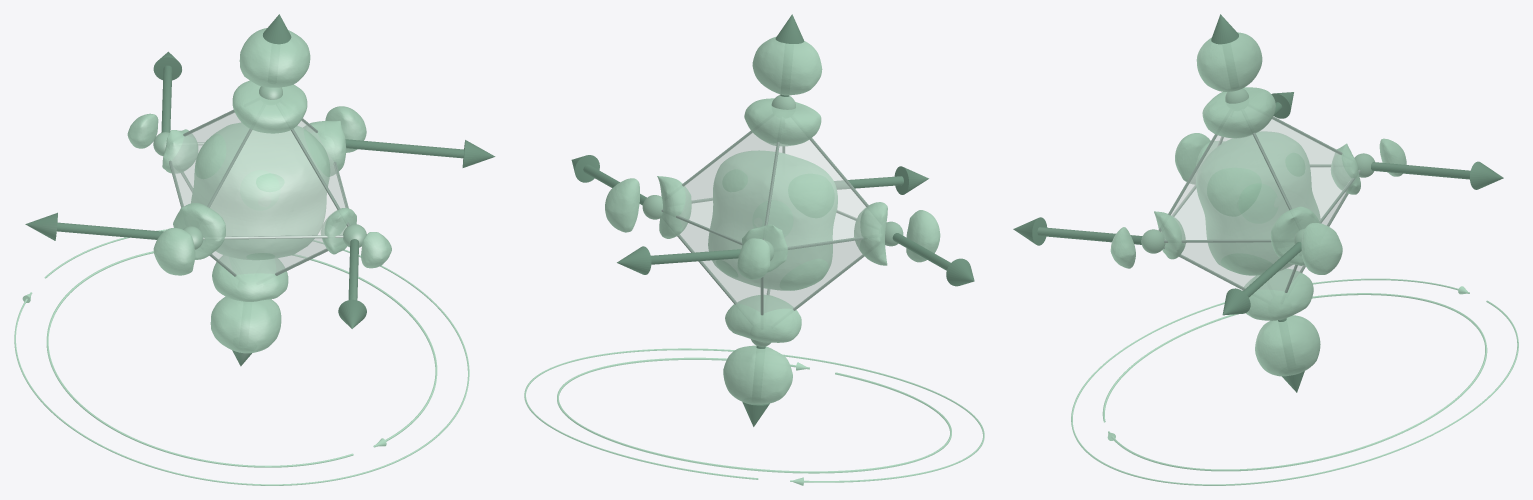
File: quantum-orbitals-ehu.glb
3 renders of one model, left to right at view 1: azimuth 30°, elevation 25°; view 2: azimuth 150°, elevation 25°; view 3: azimuth 270°, elevation 25°, orthographic.
Visible parts, largest first — view 1: Shape_IndexedFaceSet.005 · web, Shape_IndexedFaceSet.006 · web, Shape_IndexedFaceSet.006 · web.006, Shape_IndexedFaceSet.006 · web.005, Shape_IndexedFaceSet.006 · web.002, Shape_IndexedFaceSet.006 · web.008, Rotation ring 1 · web, Rotation ring 2 · web, Shape_IndexedFaceSet.006 · web.001, Shape_IndexedFaceSet.006 · web.004, Shape_IndexedFaceSet.006 · web.009, Shape_IndexedFaceSet.006 · web.012 (+10 smaller); view 2: Shape_IndexedFaceSet.005 · web, Shape_IndexedFaceSet.006 · web, Shape_IndexedFaceSet.006 · web.006, Shape_IndexedFaceSet.006 · web.005, Shape_IndexedFaceSet.006 · web.008, Shape_IndexedFaceSet.006 · web.002, Rotation ring 2 · web, Rotation ring 1 · web, Shape_IndexedFaceSet.006 · web.001, Shape_IndexedFaceSet.006 · web.012, Shape_IndexedFaceSet.006 · web.013, Shape_IndexedFaceSet.006 · web.004 (+10 smaller); view 3: Shape_IndexedFaceSet.005 · web, Shape_IndexedFaceSet.006 · web, Shape_IndexedFaceSet.006 · web.006, Shape_IndexedFaceSet.006 · web.005, Shape_IndexedFaceSet.006 · web.002, Shape_IndexedFaceSet.006 · web.008, Rotation ring 1 · web, Rotation ring 2 · web, Shape_IndexedFaceSet.006 · web.013, Shape_IndexedFaceSet.006 · web.012, Shape_IndexedFaceSet.006 · web.004, Shape_IndexedFaceSet.006 · web.009 (+8 smaller).
Part boxes in pixels (bbox=[...]): Shape_IndexedFaceSet.005 · web: bbox=[171, 112, 346, 274]; Shape_IndexedFaceSet.006 · web: bbox=[191, 122, 330, 260]; Shape_IndexedFaceSet.006 · web.006: bbox=[210, 296, 281, 353]; Shape_IndexedFaceSet.006 · web.005: bbox=[239, 28, 310, 87]; Shape_IndexedFaceSet.006 · web.002: bbox=[232, 80, 307, 133]; Shape_IndexedFaceSet.006 · web.008: bbox=[212, 255, 288, 301]; Rotation ring 1 · web: bbox=[46, 251, 437, 467]; Rotation ring 2 · web: bbox=[14, 229, 469, 485]; Shape_IndexedFaceSet.006 · web.001: bbox=[173, 203, 225, 259]; Shape_IndexedFaceSet.006 · web.004: bbox=[153, 228, 195, 275]; Shape_IndexedFaceSet.006 · web.009: bbox=[162, 129, 198, 173]; Shape_IndexedFaceSet.006 · web.012: bbox=[303, 120, 346, 176]; Shape_IndexedFaceSet.005 · web: bbox=[679, 132, 866, 312]; Shape_IndexedFaceSet.006 · web: bbox=[708, 150, 837, 290]; Shape_IndexedFaceSet.006 · web.006: bbox=[723, 345, 792, 404]; Shape_IndexedFaceSet.006 · web.005: bbox=[752, 36, 822, 95]; Shape_IndexedFaceSet.006 · web.008: bbox=[725, 294, 801, 342]; Shape_IndexedFaceSet.006 · web.002: bbox=[744, 98, 821, 146]; Rotation ring 2 · web: bbox=[524, 348, 984, 482]; Rotation ring 1 · web: bbox=[557, 357, 951, 473]; Shape_IndexedFaceSet.006 · web.001: bbox=[854, 202, 887, 265]; Shape_IndexedFaceSet.006 · web.012: bbox=[657, 176, 691, 238]; Shape_IndexedFaceSet.006 · web.013: bbox=[605, 178, 639, 232]; Shape_IndexedFaceSet.006 · web.004: bbox=[906, 210, 940, 262]; Shape_IndexedFaceSet.005 · web: bbox=[1161, 119, 1351, 291]; Shape_IndexedFaceSet.006 · web: bbox=[1196, 131, 1320, 275]; Shape_IndexedFaceSet.006 · web.006: bbox=[1255, 315, 1320, 376]; Shape_IndexedFaceSet.006 · web.005: bbox=[1196, 32, 1262, 91]; Shape_IndexedFaceSet.006 · web.002: bbox=[1202, 87, 1275, 138]; Shape_IndexedFaceSet.006 · web.008: bbox=[1242, 268, 1313, 320]; Rotation ring 1 · web: bbox=[1102, 293, 1487, 471]; Rotation ring 2 · web: bbox=[1071, 278, 1518, 485]; Shape_IndexedFaceSet.006 · web.013: bbox=[1301, 223, 1342, 274]; Shape_IndexedFaceSet.006 · web.012: bbox=[1270, 206, 1319, 265]; Shape_IndexedFaceSet.006 · web.004: bbox=[1175, 133, 1210, 184]; Shape_IndexedFaceSet.006 · web.009: bbox=[1330, 143, 1360, 194].
Bounding box in the file's own units: 12.34 × 11.07 × 12.49.
